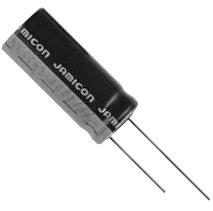capacitor: (3, 5, 159, 177)
